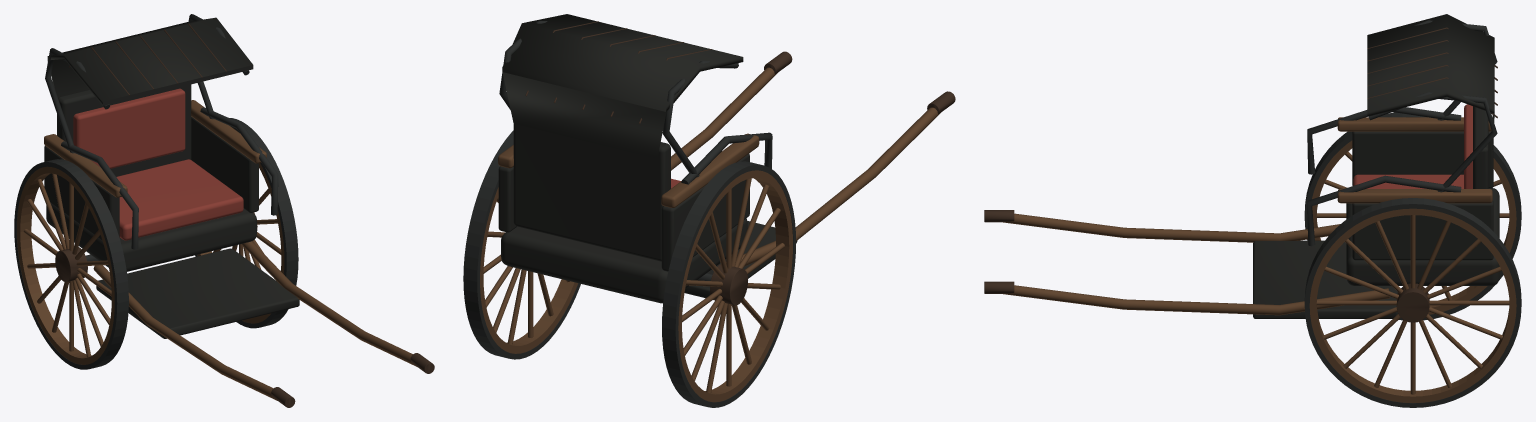
Rendered from kominka-rickshaw-01.glb.
The picture shows the model from 3 angles, left to right: view 1: azimuth 30°, elevation 25°; view 2: azimuth 150°, elevation 25°; view 3: azimuth 270°, elevation 25°; orthographic projection. The views are drawn at different scales.
Parts seen in each view (by area): view 1: kominka-rickshaw-01; view 2: kominka-rickshaw-01; view 3: kominka-rickshaw-01.
Part boxes in pixels (x1,y1,x2,y2): kominka-rickshaw-01: [14, 14, 434, 407]; kominka-rickshaw-01: [463, 14, 955, 407]; kominka-rickshaw-01: [984, 14, 1521, 407].
Size of the model in its own units: 1.1 by 1.65 by 2.6.
